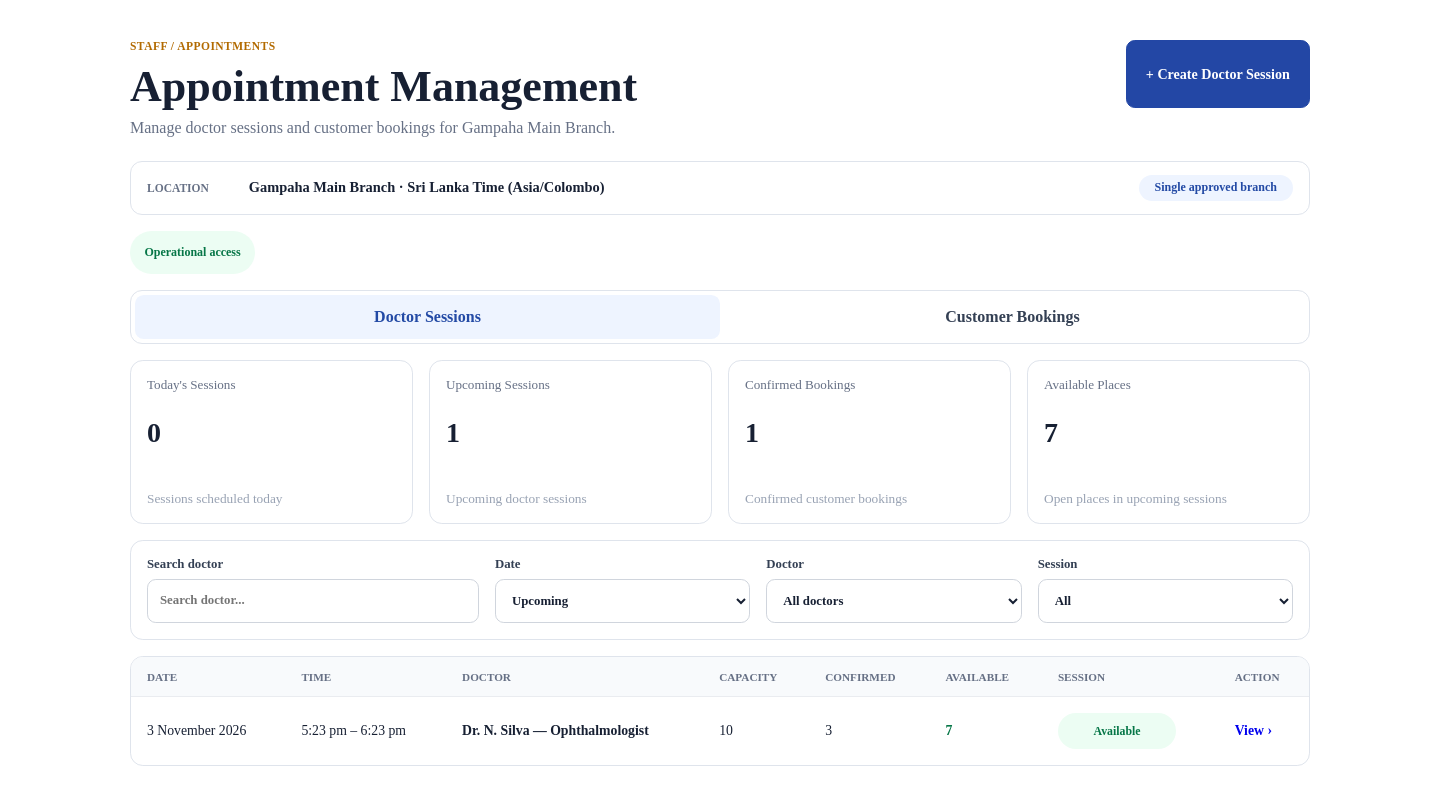
Test: StaffAppointmentsPage › filters sessions by Doctor search
The width and height of the screenshot is (1440, 810).
Expected: the link "View ›" is shown, top-left (1235, 723), bottom-right (1272, 738)
In the search field with placeholder "Search doctor...": (313, 601) top-left (147, 579), bottom-right (479, 623), type "different doctor"
(page scrolled)
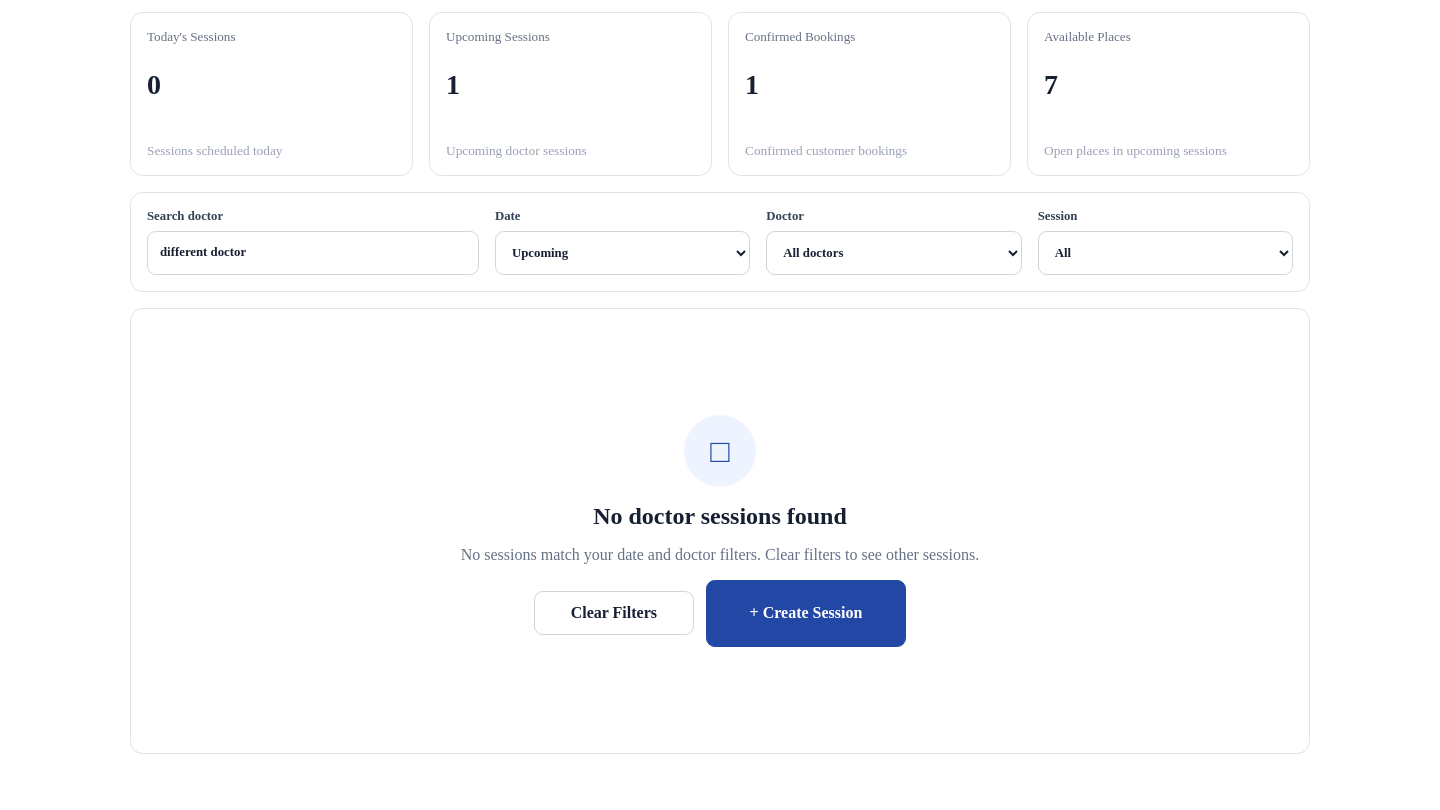
Result: the heading "No doctor sessions found" is shown at top-left (593, 503), bottom-right (847, 530)
